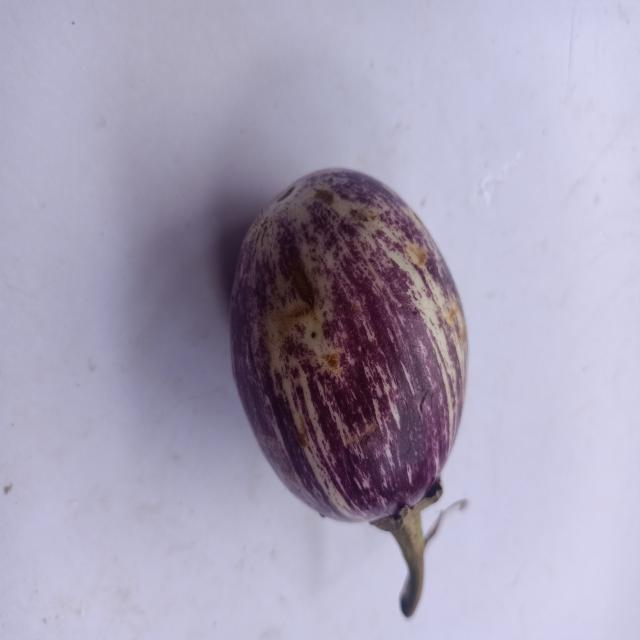Eggplant: (222, 165, 516, 621)
